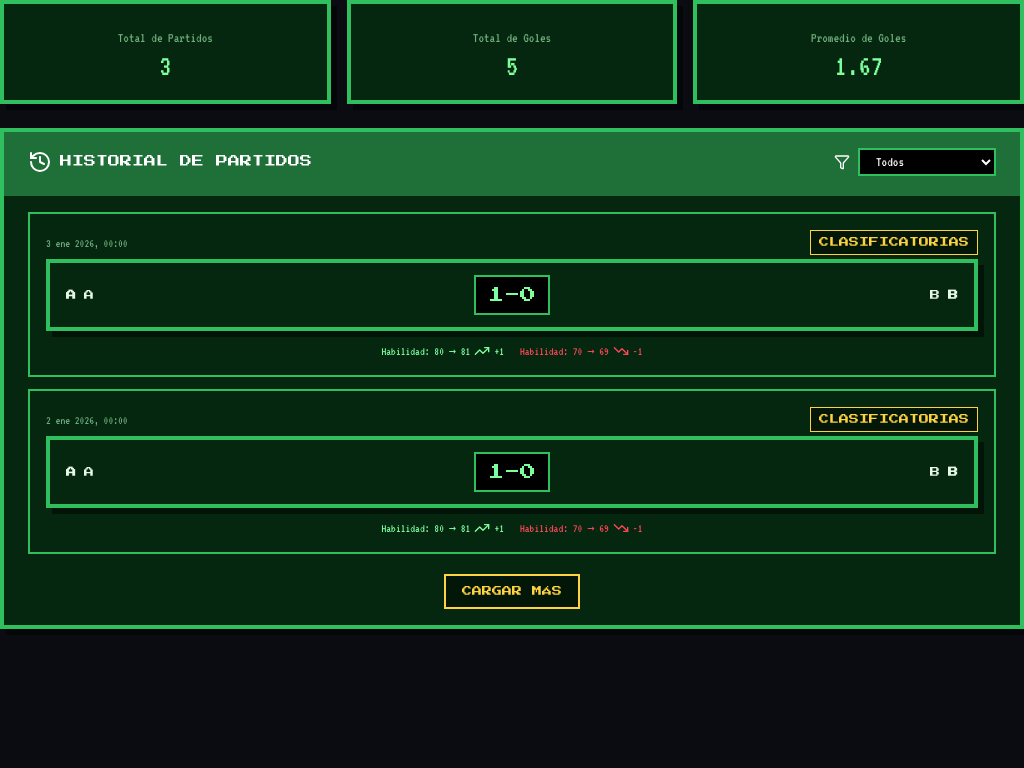
Test case: MatchHistory — paginación "Cargar más" › carga la primera página y appendea al pedir más
Expected: the text "Clasificatorias" is shown 2 times, [810, 230, 978, 255]; [810, 407, 978, 432]
Click the button "Cargar más" at (512, 592), box [444, 574, 580, 609]
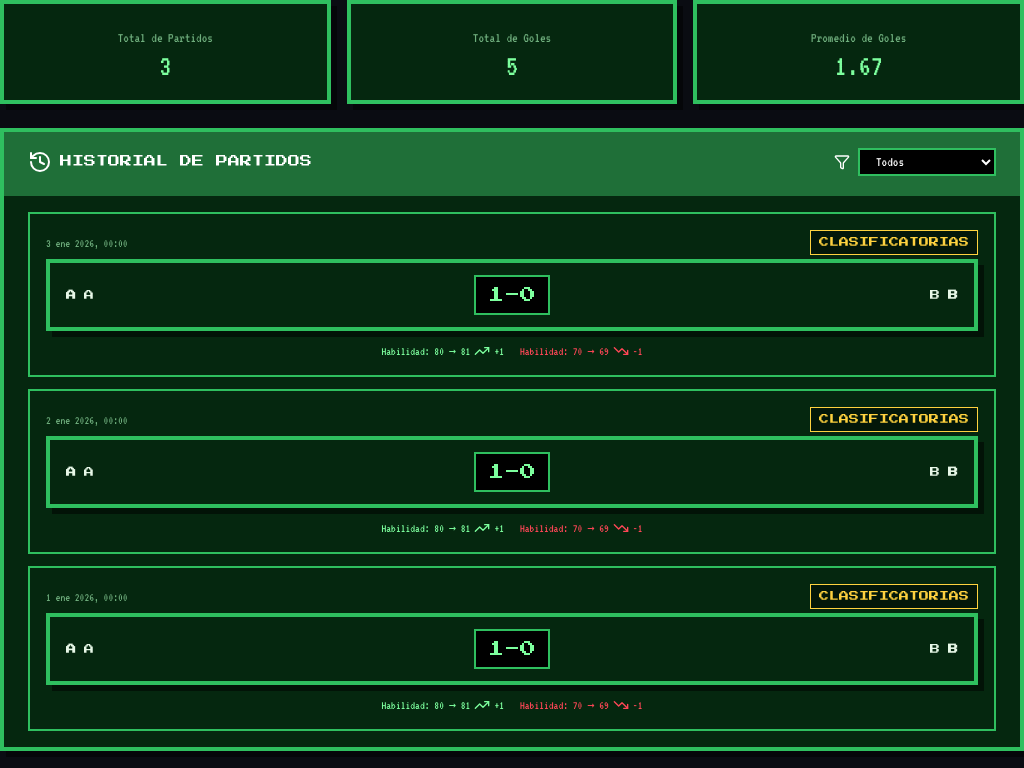
Expected: the text "Clasificatorias" is shown 3 times, [810, 230, 978, 255]; [810, 407, 978, 432]; [810, 584, 978, 609]
Expected: the button "Cargar más" is gone
